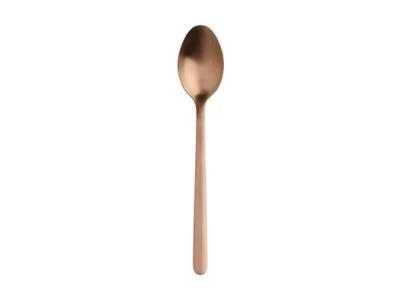Spoon: (177, 25, 224, 275)
